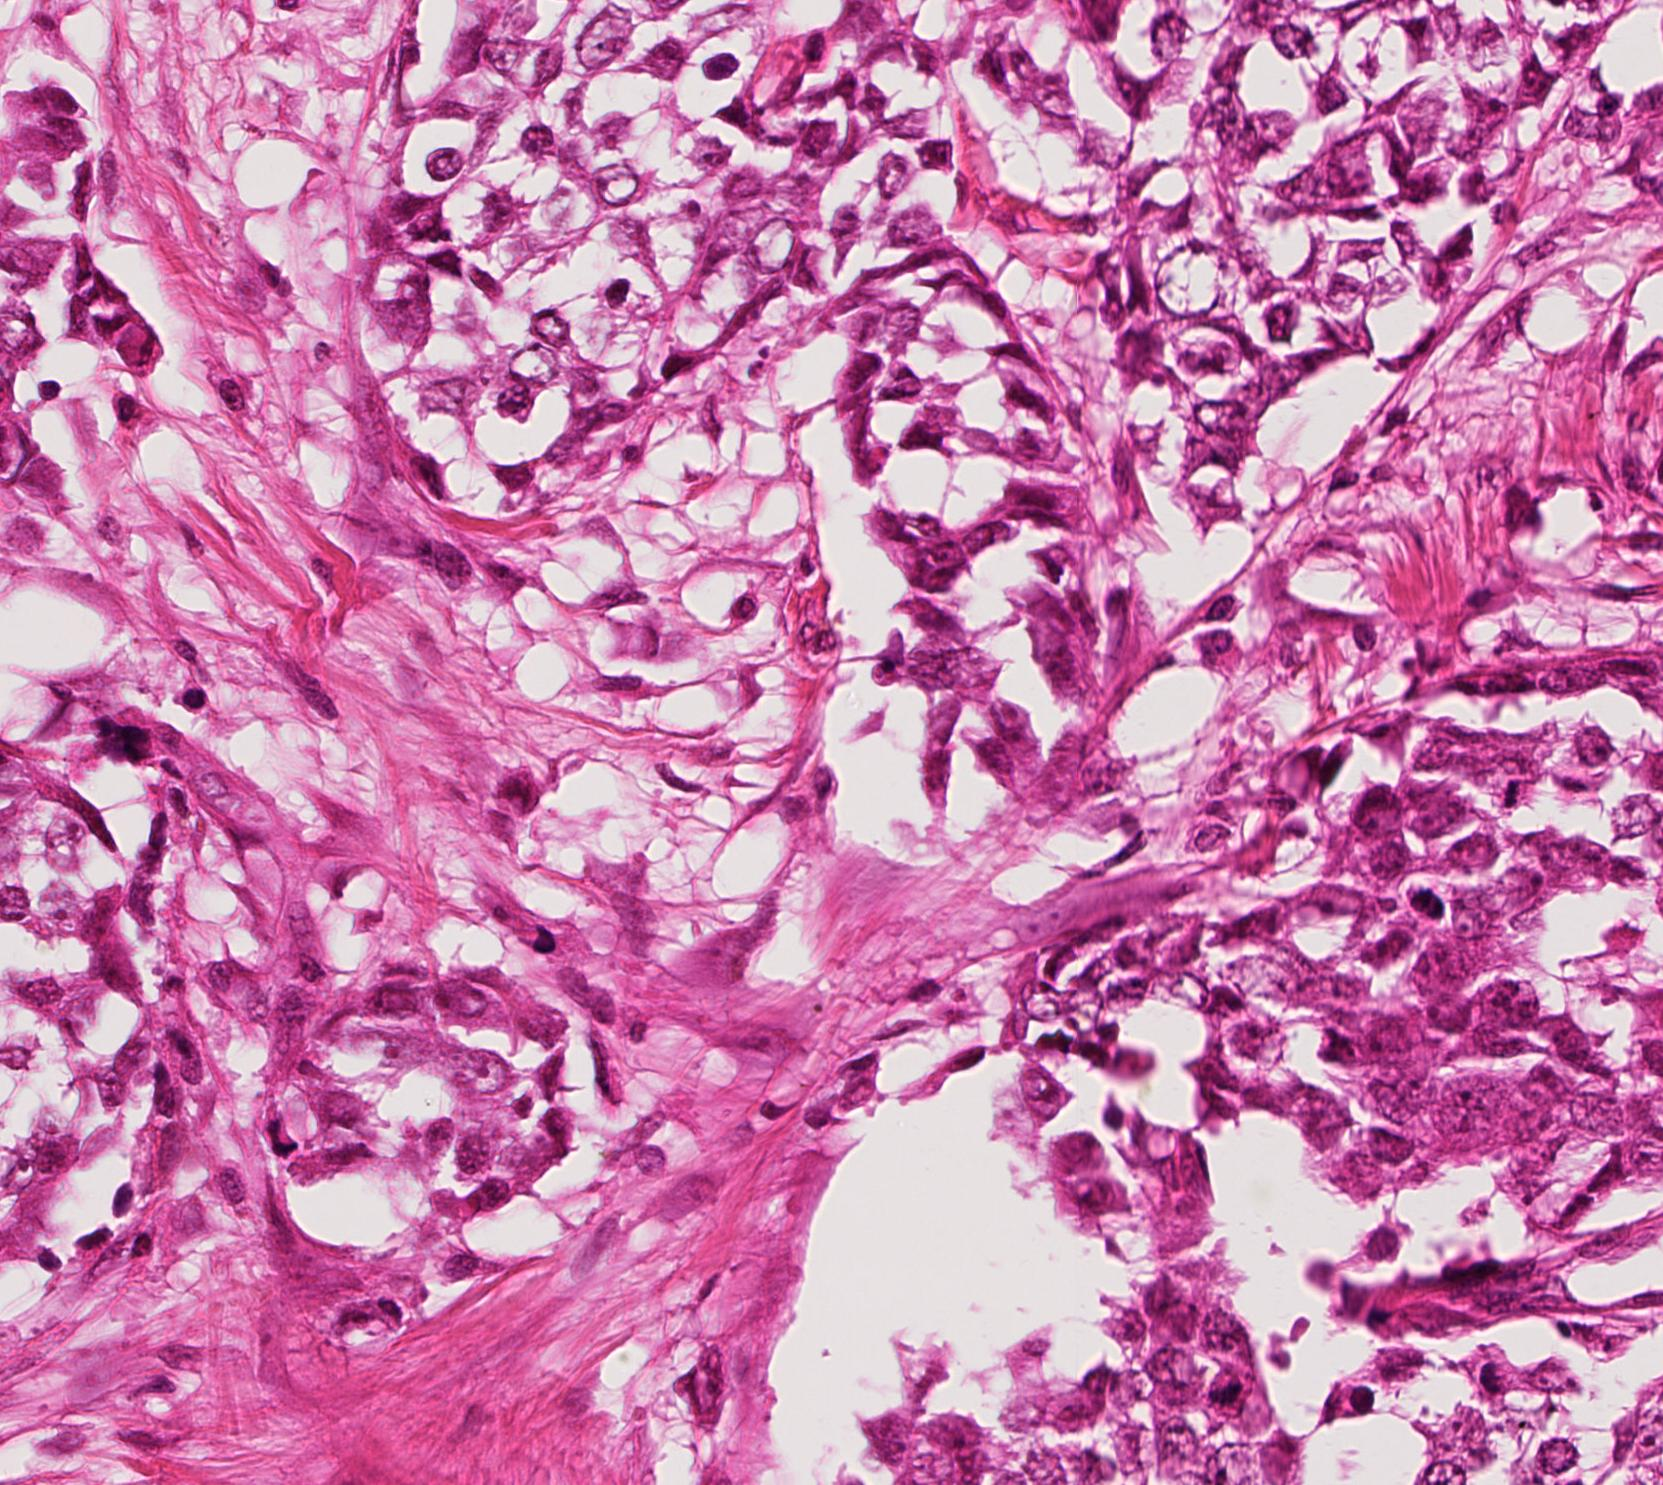mitosis: (1191, 1359, 1252, 1419), (1488, 757, 1548, 817)
